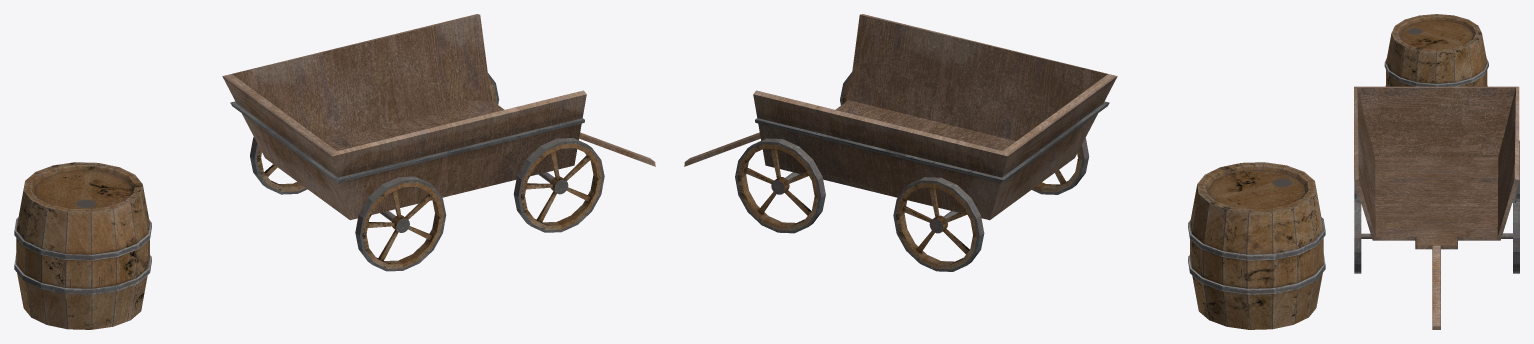
Rendered from Cart and Barrel.fbx.
The picture shows the model from 3 angles, left to right: view 1: azimuth 30°, elevation 25°; view 2: azimuth 150°, elevation 25°; view 3: azimuth 270°, elevation 25°; orthographic projection. The views are drawn at different scales.
Visible parts, largest first — view 1: Wagon, Barrel; view 2: Wagon, Barrel; view 3: Wagon, Barrel.
Part boxes in pixels (x1,y1,x2,y2): Wagon: [222, 14, 655, 271]; Barrel: [14, 162, 151, 329]; Wagon: [684, 14, 1117, 271]; Barrel: [1188, 162, 1325, 329]; Wagon: [1354, 86, 1519, 329]; Barrel: [1384, 14, 1488, 86].
Size of the model in its own units: 561 by 122 by 170.
